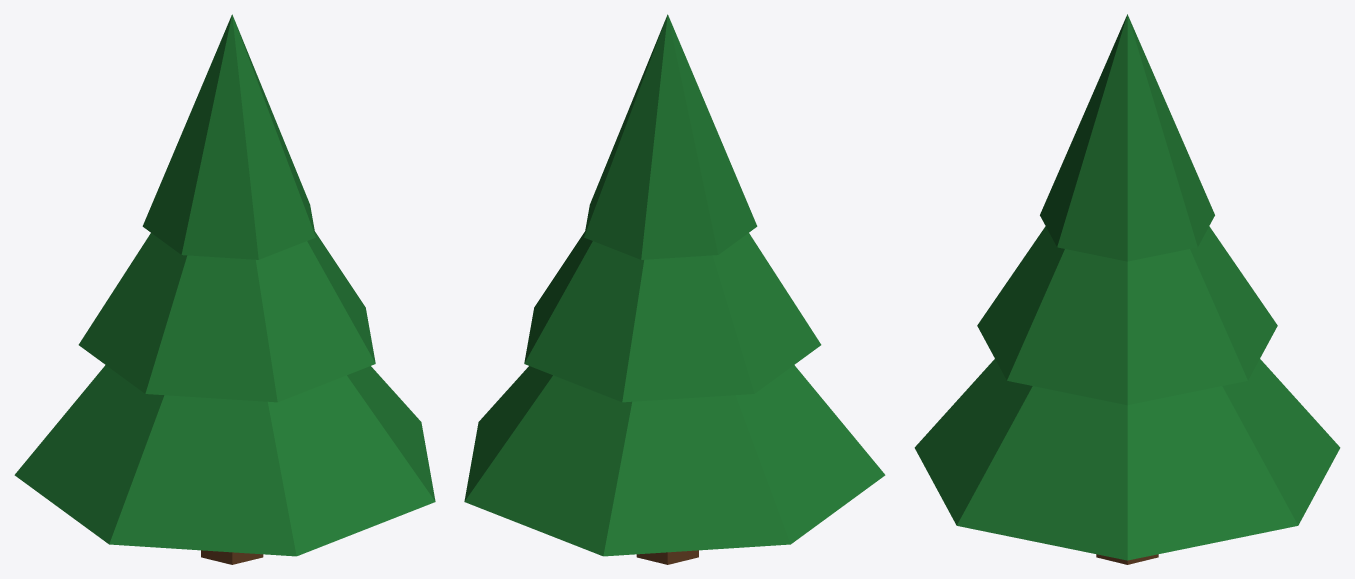
File: pine_tree.obj
3 views of the same model, side by side, from view 1: azimuth 30°, elevation 25°; view 2: azimuth 150°, elevation 25°; view 3: azimuth 270°, elevation 25° (orthographic).
Parts seen in each view (by area): view 1: pine_tree; view 2: pine_tree; view 3: pine_tree.
Boxes of the visible parts, x1=… form: pine_tree: x1=14, y1=14, x2=435, y2=564; pine_tree: x1=464, y1=14, x2=885, y2=564; pine_tree: x1=914, y1=14, x2=1340, y2=564.
Bounding box in the file's own units: 1.62 × 2.3 × 1.66.
